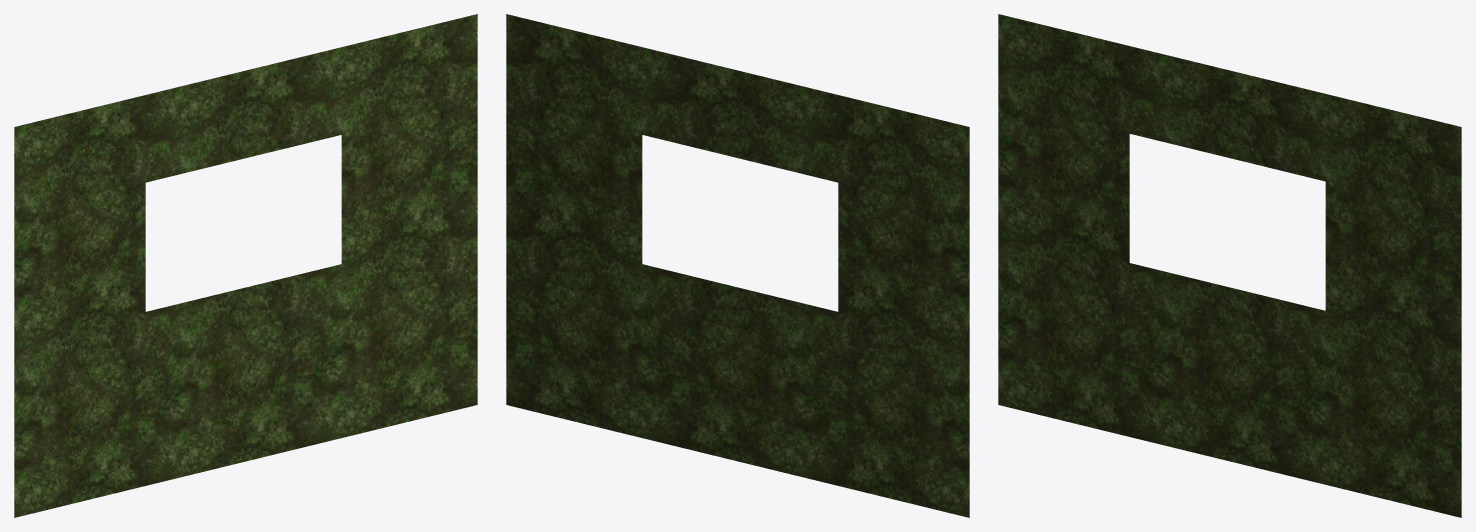
The model's file is OVERHILL_A_01_OBJECT124.fbx.
The picture shows the model from 3 angles, left to right: view 1: azimuth 30°, elevation 25°; view 2: azimuth 150°, elevation 25°; view 3: azimuth 330°, elevation 25°; orthographic projection.
Visible parts, largest first — view 1: OVERHILL_A_01_OBJECT124; view 2: OVERHILL_A_01_OBJECT124; view 3: OVERHILL_A_01_OBJECT124.
Boxes of the visible parts, x1,y1,x2,y2 form: OVERHILL_A_01_OBJECT124: [14, 14, 477, 517]; OVERHILL_A_01_OBJECT124: [506, 14, 969, 517]; OVERHILL_A_01_OBJECT124: [998, 14, 1461, 517].
Size of the model in its own units: 88713 by 71550 by 0.0117.
1 material, 1 textured.
